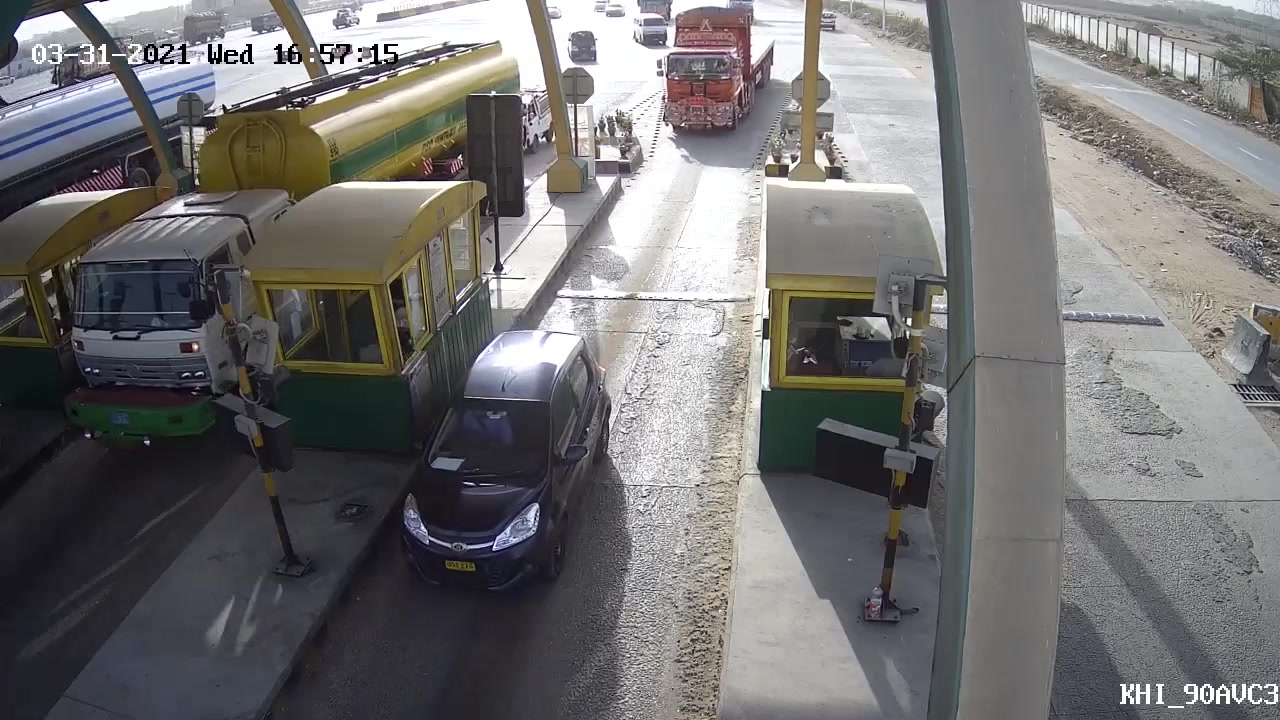F1: (383, 327, 621, 620)
F6: (662, 4, 781, 144)
